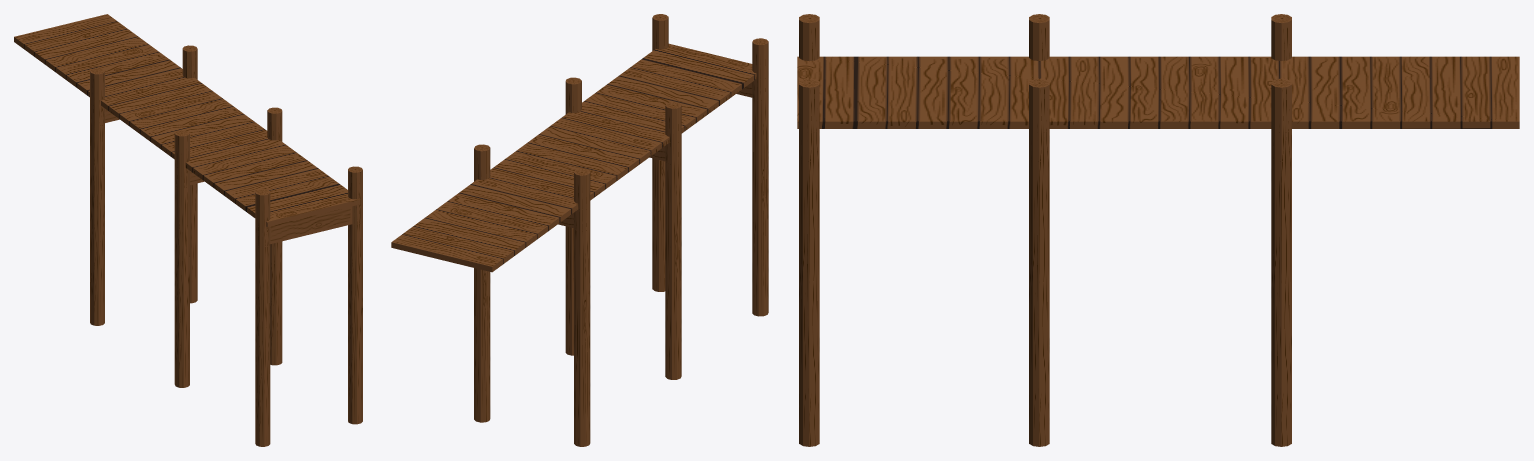
Rendered from Dock_Segment.fbx.
3 renders of one model, left to right at view 1: azimuth 30°, elevation 25°; view 2: azimuth 150°, elevation 25°; view 3: azimuth 270°, elevation 25°, orthographic. The views are drawn at different scales.
Parts seen in each view (by area): view 1: Planks, Trestle04, Trestle03, Trestle02; view 2: Planks, Trestle02, Trestle04, Trestle03; view 3: Planks, Trestle02, Trestle03, Trestle04.
Boxes of the visible parts, left/top/right/bottom form: Planks: left=14, top=14, right=360, bottom=226; Trestle04: left=255, top=166, right=362, bottom=446; Trestle03: left=174, top=107, right=282, bottom=387; Trestle02: left=90, top=45, right=197, bottom=325; Planks: left=391, top=43, right=756, bottom=272; Trestle02: left=474, top=144, right=590, bottom=446; Trestle04: left=652, top=14, right=768, bottom=316; Trestle03: left=565, top=77, right=681, bottom=379; Planks: left=797, top=56, right=1519, bottom=128; Trestle02: left=1271, top=14, right=1291, bottom=446; Trestle03: left=1029, top=14, right=1049, bottom=446; Trestle04: left=799, top=14, right=819, bottom=446.
Bounding box in the file's own units: 9.71 × 22.08 × 40.25.
2 materials, 2 textured.
